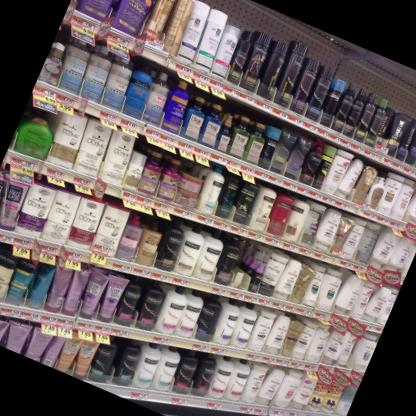empty_space: (229, 238, 264, 291)
